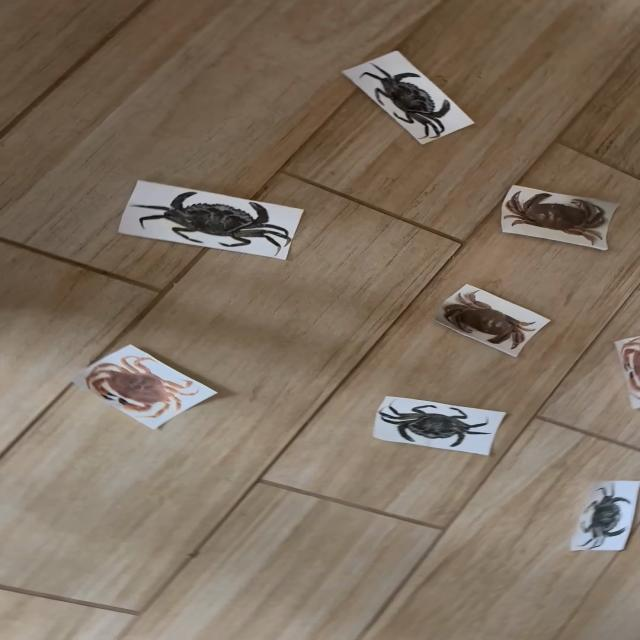egc: (134, 192, 292, 254), (363, 65, 451, 141), (379, 403, 489, 447), (580, 483, 633, 548)
